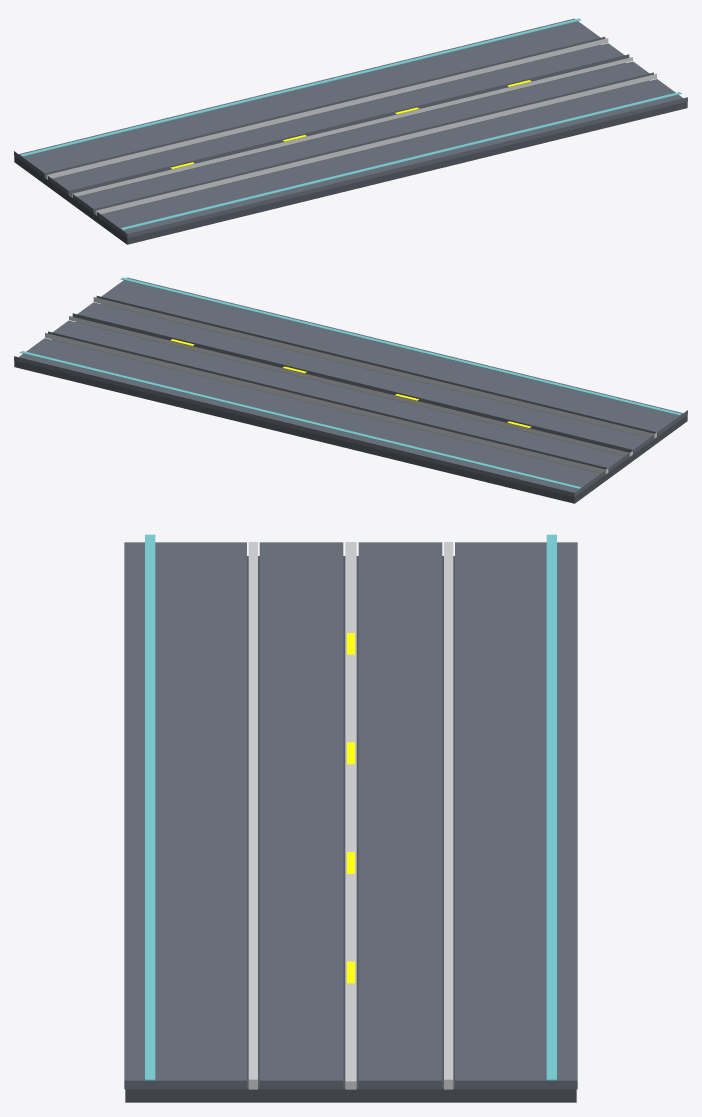
File: ext_tram_rail_module_promoted_backup_pre_trim.glb
3 renders of one model, top to bottom at view 1: azimuth 30°, elevation 25°; view 2: azimuth 150°, elevation 25°; view 3: azimuth 270°, elevation 25°, orthographic. The views are drawn at different scales.
Visible parts, largest first — view 1: Deck, Base_Slab, Rails, Side_Lines, Power_Rail; view 2: Deck, Base_Slab, Rails, Side_Lines, Power_Rail; view 3: Deck, Base_Slab, Side_Lines, Rails, Power_Rail.
Boxes of the visible parts, x1,y1,x2,y2 form: Deck: (14,18,687,238); Base_Slab: (14,45,687,244); Rails: (45,38,656,215); Side_Lines: (19,18,681,229); Power_Rail: (69,57,632,197); Deck: (14,277,687,497); Base_Slab: (14,304,687,503); Rails: (45,297,656,474); Side_Lines: (20,277,682,488); Power_Rail: (69,316,632,456); Deck: (124,542,577,1089); Base_Slab: (125,556,576,1102); Side_Lines: (145,534,556,1080); Rails: (248,542,453,1089); Power_Rail: (345,542,356,1089).
Bounding box in the file's own units: 9.99 × 0.2 × 3.5.
